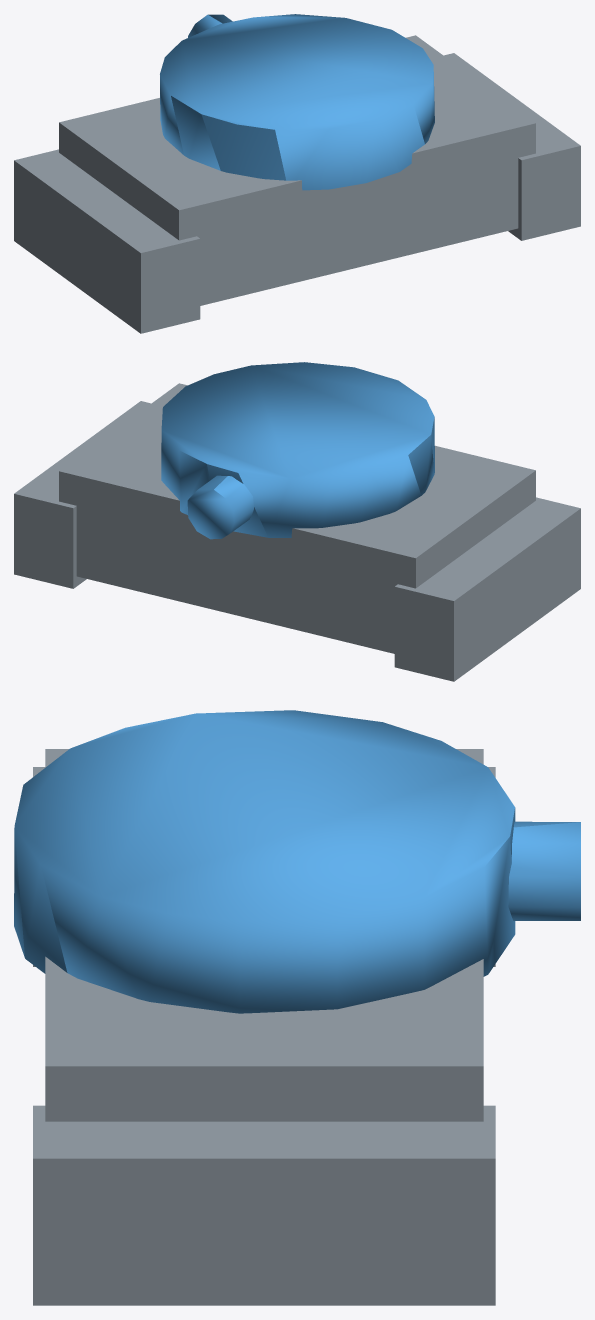
File: AL_KestrelScout_LOD1.glb
3 renders of one model, top to bottom at view 1: azimuth 30°, elevation 25°; view 2: azimuth 150°, elevation 25°; view 3: azimuth 270°, elevation 25°, orthographic. The views are drawn at different scales.
Visible parts, largest first — view 1: Chassis; view 2: Chassis; view 3: Chassis.
Part boxes in pixels (<box>): Chassis: <box>14,14,580,333</box>; Chassis: <box>14,362,580,681</box>; Chassis: <box>14,710,580,1305</box>.
Bounding box in the file's own units: 400 × 140 × 244.
